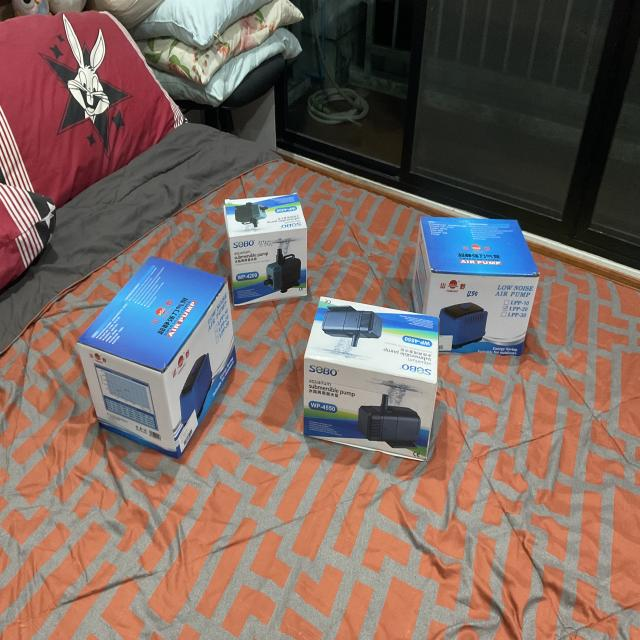SOBO_WP_4200: (300, 287, 452, 475), (219, 186, 314, 309)
YAMANO_LPP_20: (74, 242, 240, 462), (406, 203, 546, 357)
